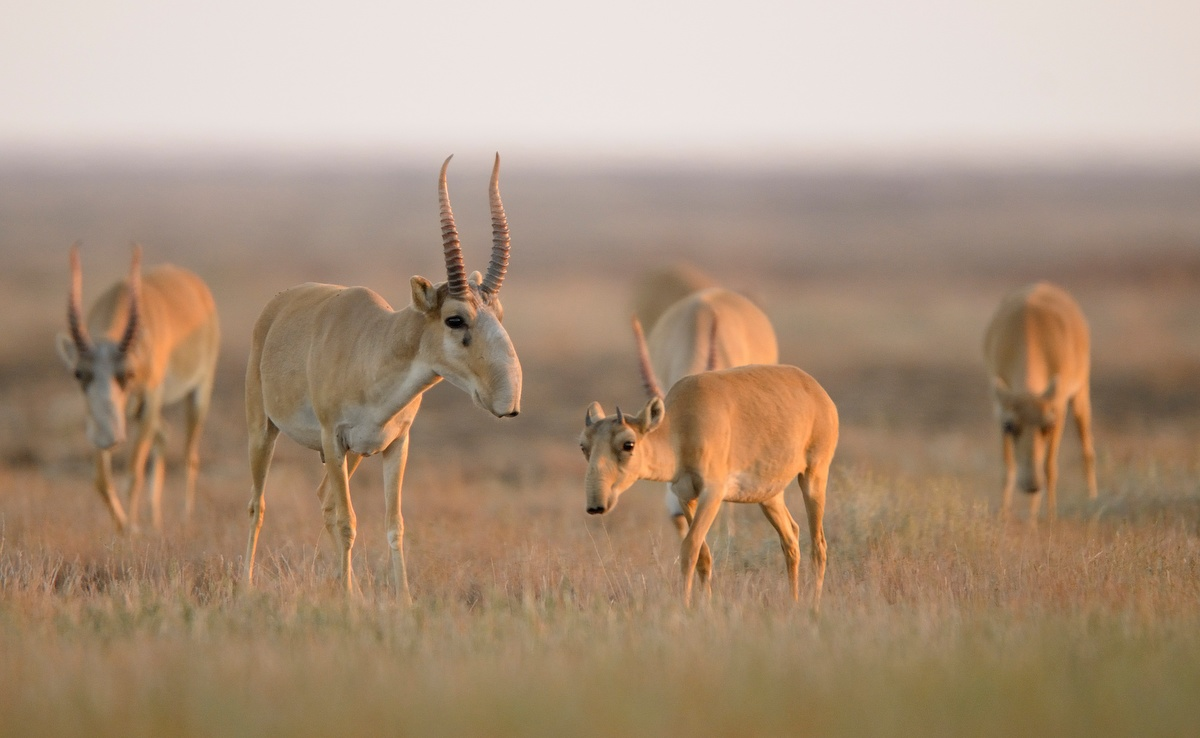saiga: (235, 149, 525, 598), (582, 361, 835, 623), (54, 239, 214, 540)
